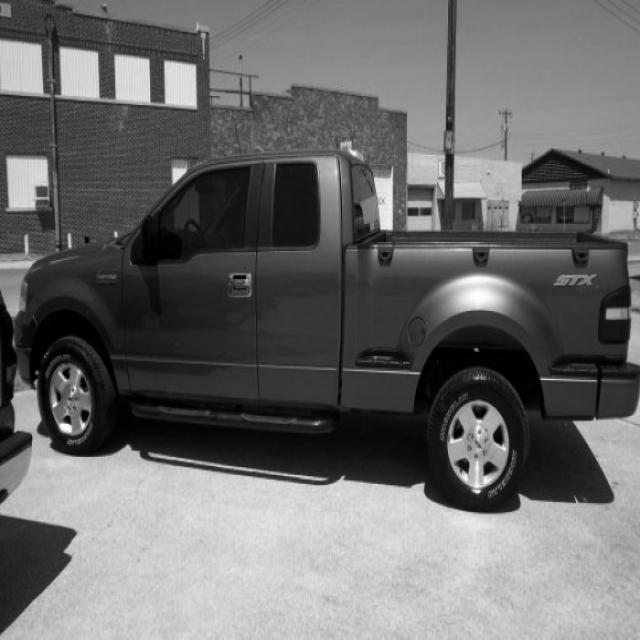car: (13, 143, 639, 511)
